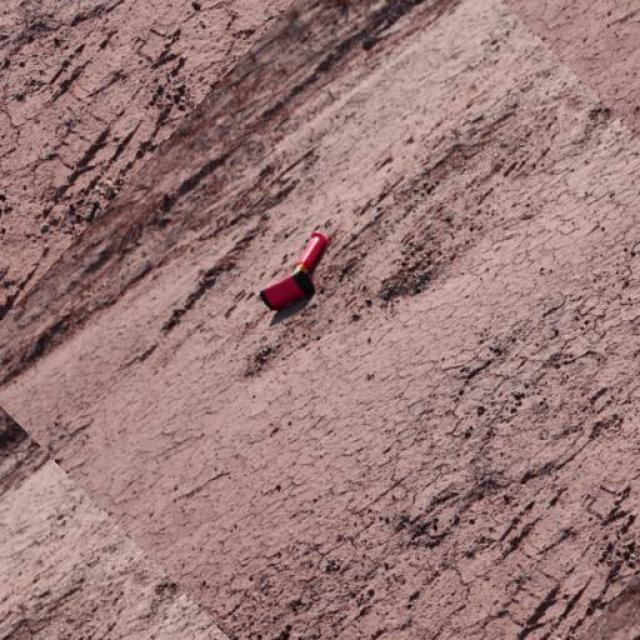mallet: (258, 229, 330, 310)
